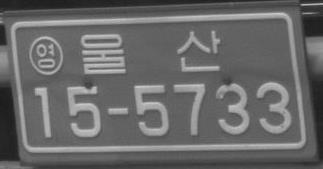-: (106, 105, 129, 118)
1: (28, 86, 61, 138)
3: (256, 80, 292, 135), (215, 82, 250, 136)
5: (132, 83, 170, 137), (66, 84, 101, 138)
7: (172, 82, 206, 135)
영: (28, 34, 64, 75)
울산_D: (80, 29, 220, 75)
